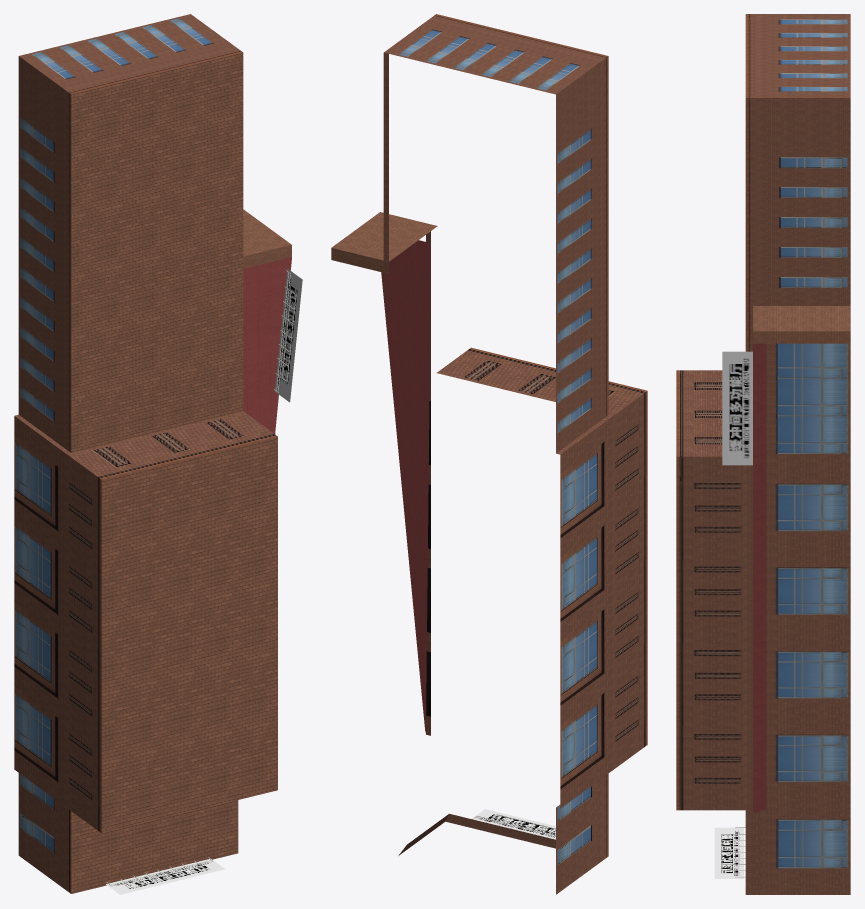
The model's file is sg_hcj.gltf.
3 renders of one model, left to right at view 1: azimuth 30°, elevation 25°; view 2: azimuth 150°, elevation 25°; view 3: azimuth 270°, elevation 25°, orthographic.
Parts seen in each view (by area): view 1: 对象048; view 2: 对象048; view 3: 对象048.
Boxes of the visible parts, box(x1,y1,x2,y2) form: 对象048: box(14, 14, 302, 894); 对象048: box(331, 14, 647, 894); 对象048: box(676, 14, 850, 894).
Size of the model in its own units: 27.3 by 91.12 by 18.03.
Materials: 7 (7 with a texture image).
